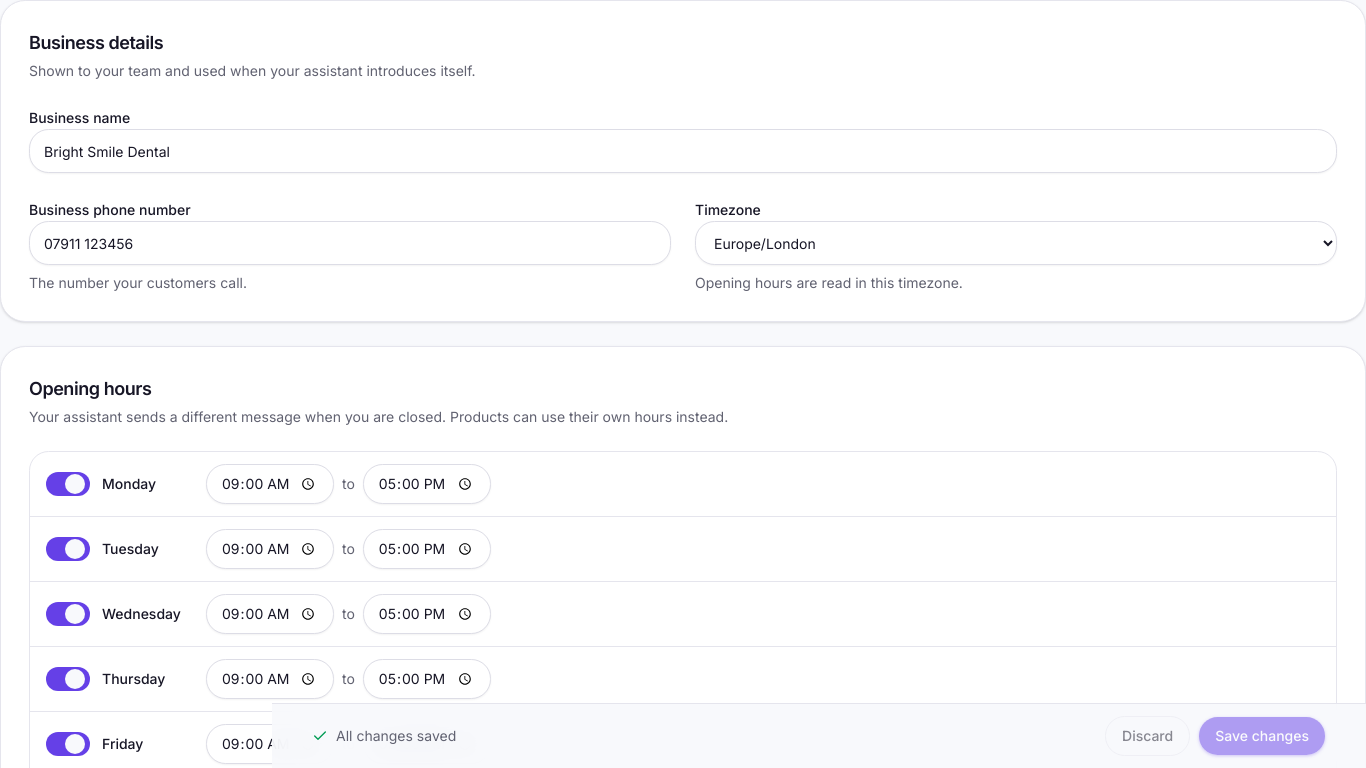
Test: BusinessSettingsForm › saves the edited details as JSON and confirms
The image size is (1366, 768).
Replace the text in the field labelled "Business name" with "Bright Smile Dental Ltd" at (683, 151), box [29, 129, 1337, 173]
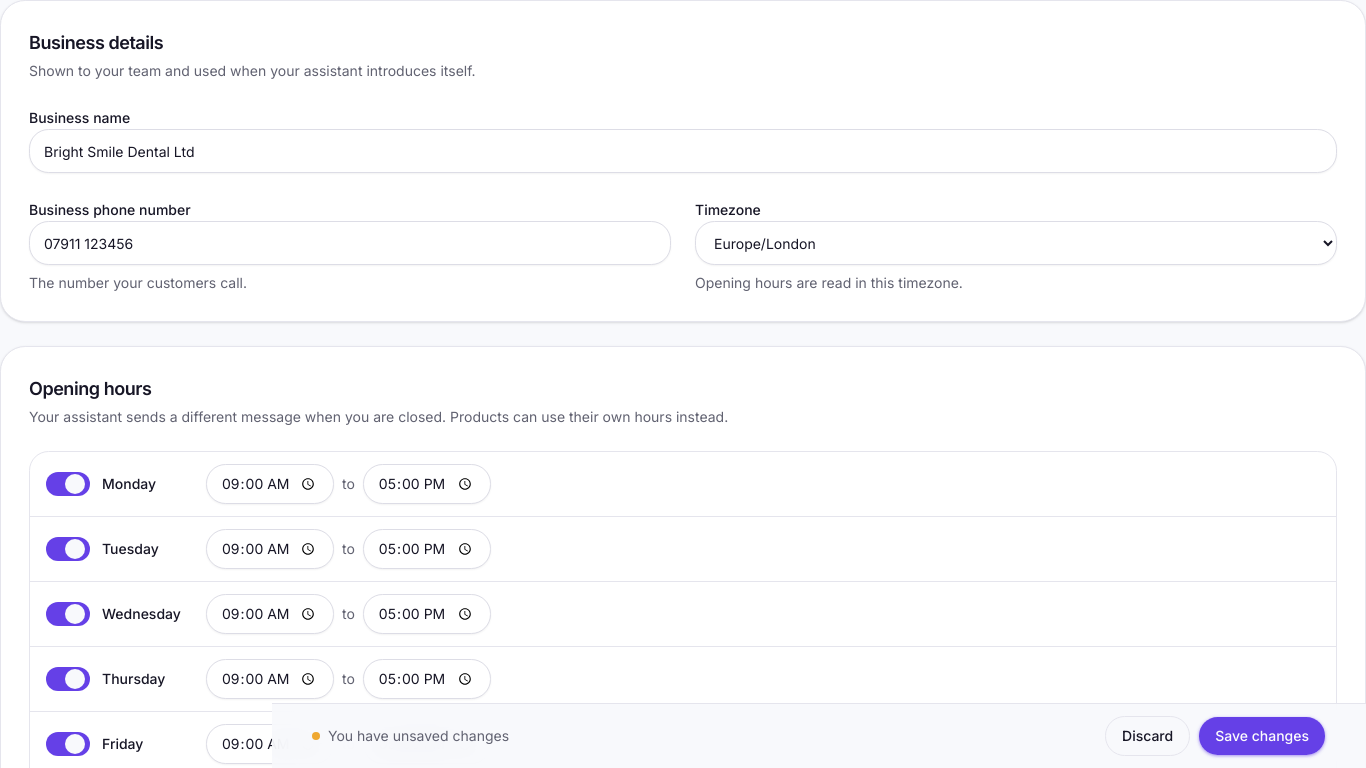
Select "Europe/Paris" in the dropdown labelled "Timezone" at (1016, 243), box [695, 221, 1337, 265]
(page scrolled)
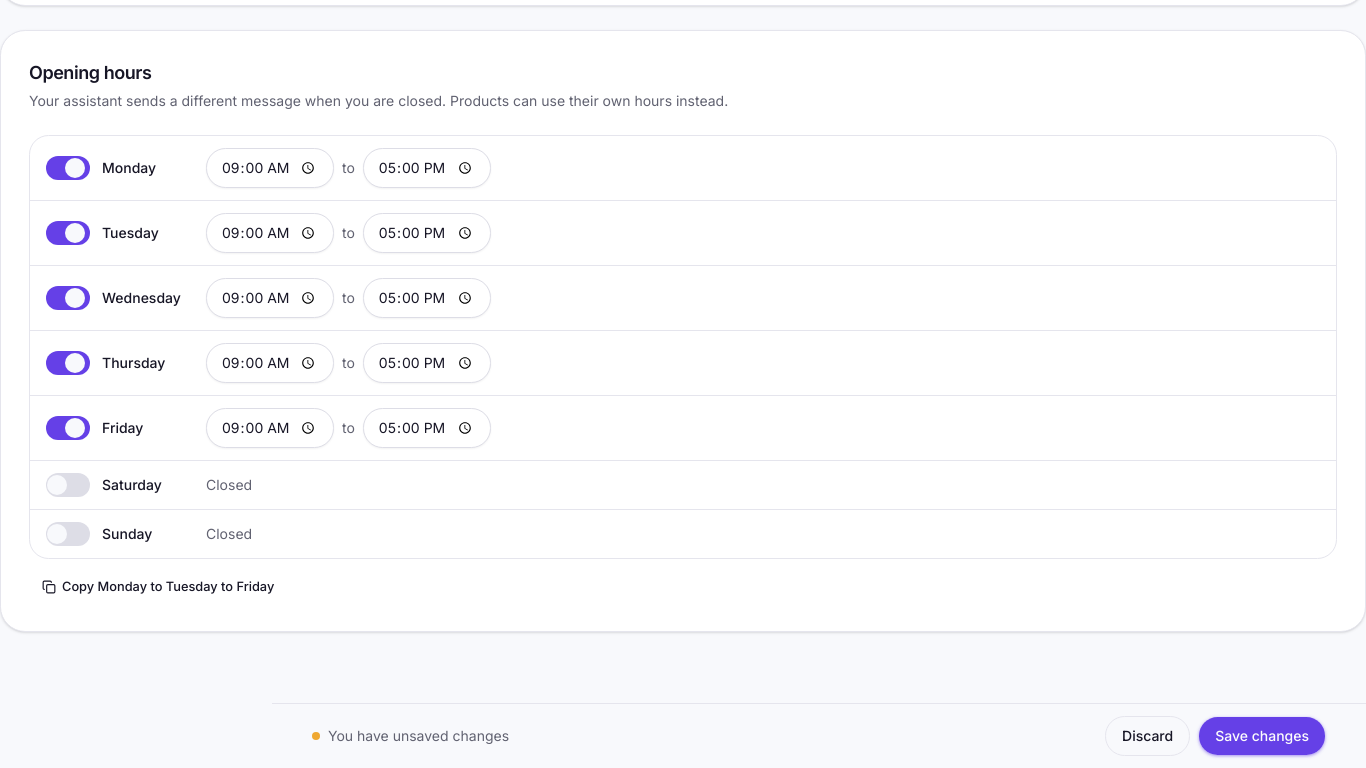
Click the switch named "Saturday open" at (68, 485), box [46, 473, 90, 497]
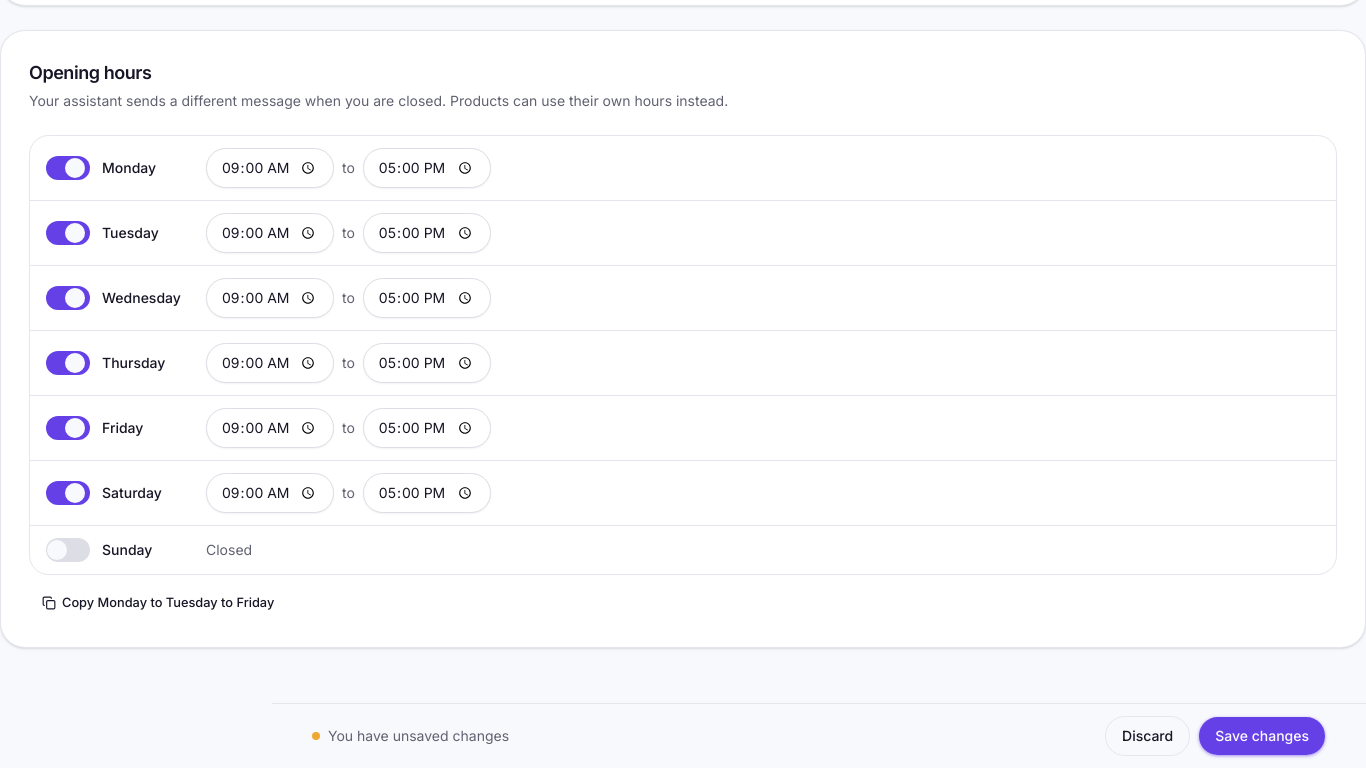
Click the button "Save changes" at (1262, 736), box [1198, 716, 1326, 756]
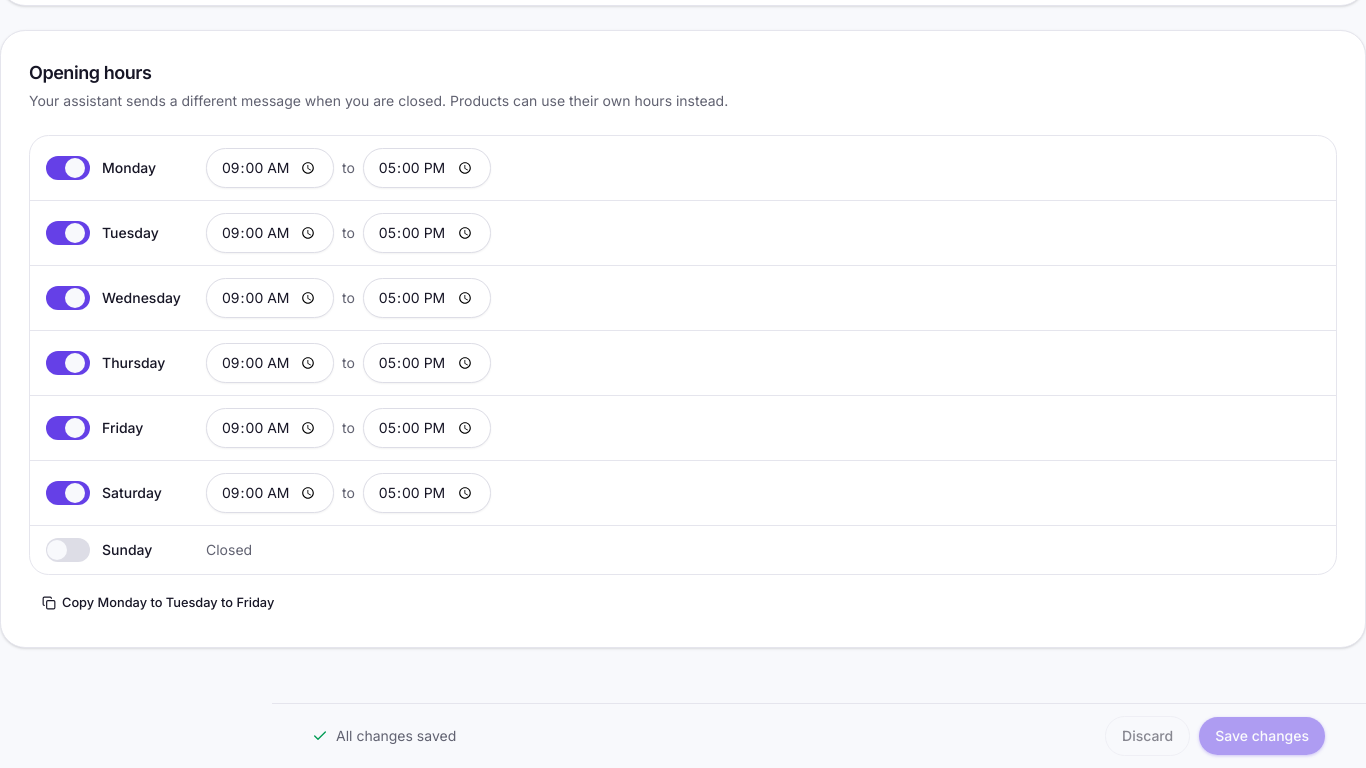
Expected: the text "All changes saved" is shown, [312, 726, 456, 746]
